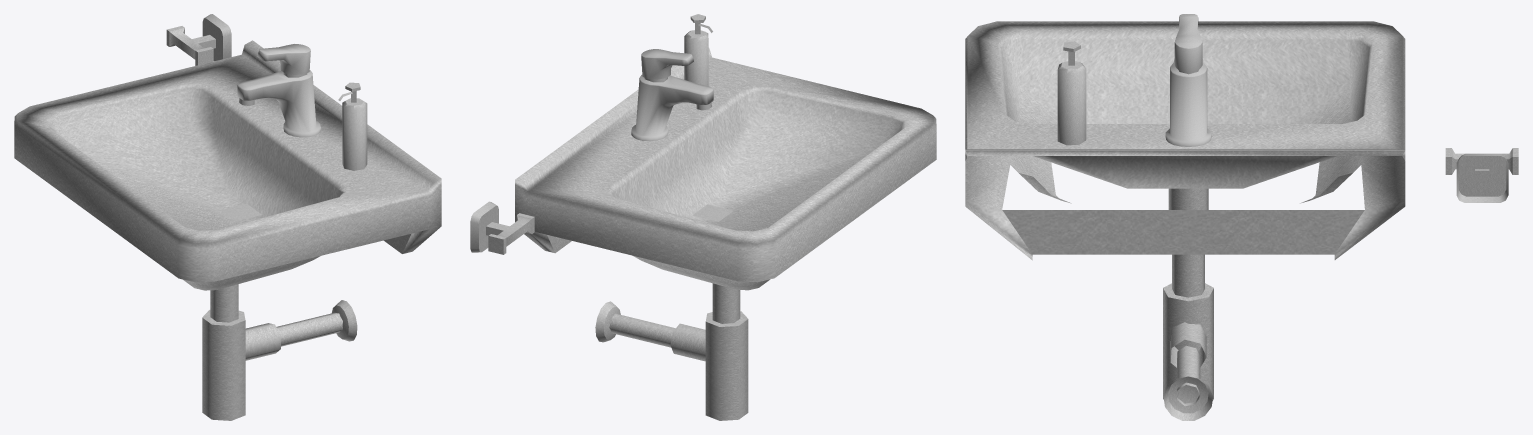
Rendered from Bath_Sink.fbx.
3 views of the same model, side by side, from view 1: azimuth 30°, elevation 25°; view 2: azimuth 150°, elevation 25°; view 3: azimuth 270°, elevation 25° (orthographic). The views are drawn at different scales.
Visible parts, largest first — view 1: Bath_Sink; view 2: Bath_Sink; view 3: Bath_Sink.
Part boxes in pixels (left/top/right/bottom): Bath_Sink: left=14, top=14, right=441, bottom=420; Bath_Sink: left=470, top=14, right=936, bottom=420; Bath_Sink: left=965, top=14, right=1518, bottom=420.
Bounding box in the file's own units: 46.42 × 61.81 × 75.92.
